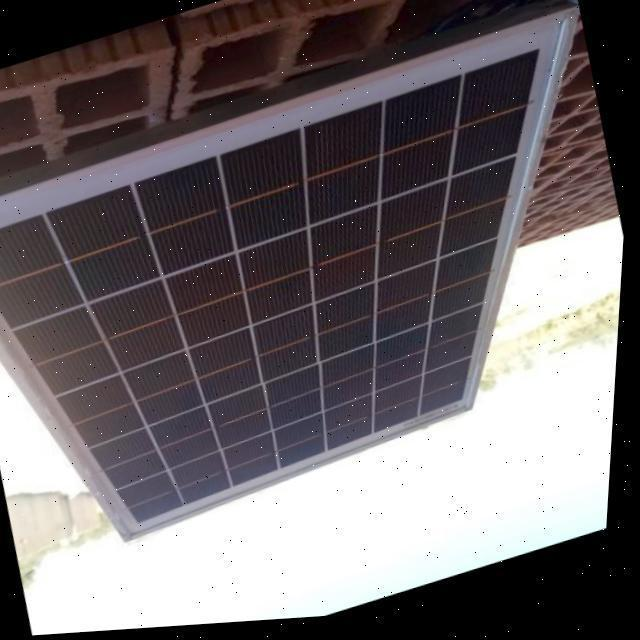Normal Solar Panel: (0, 9, 638, 576)
